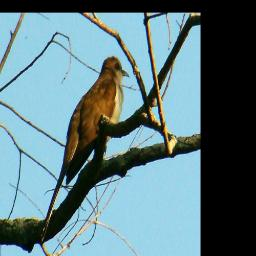Cuckoo: (63, 56, 129, 188)
